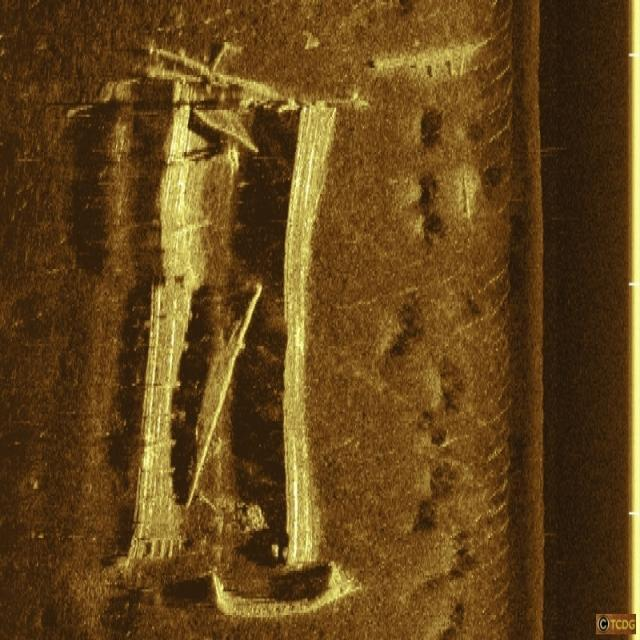shipwreck: (141, 48, 364, 614)
